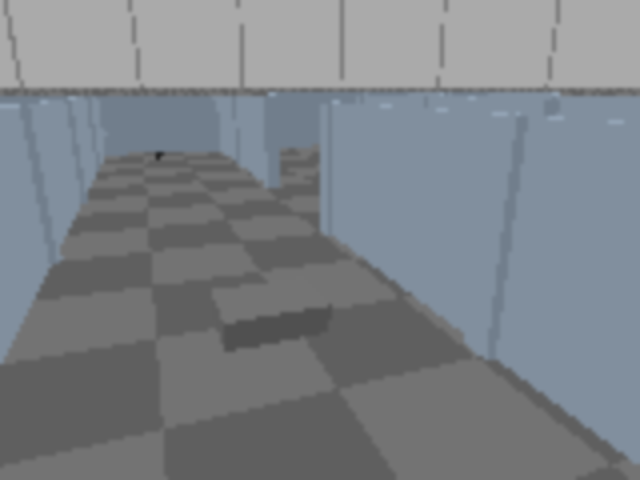obstacle: (210, 277, 330, 352)
